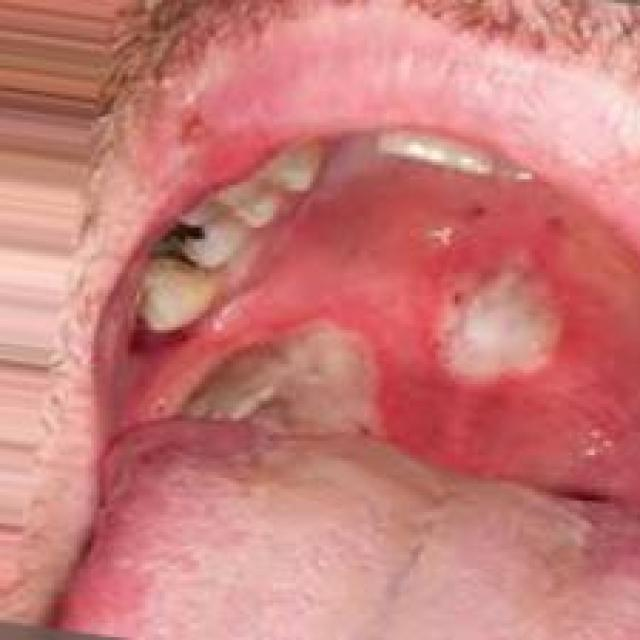caries: (134, 203, 229, 306)
